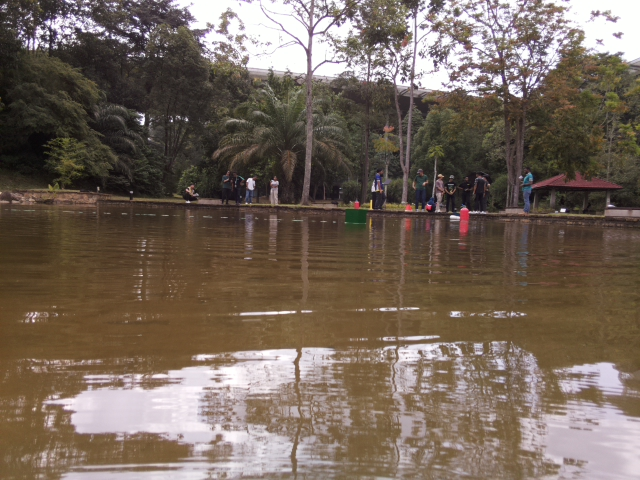obstacle: (343, 208, 367, 226)
